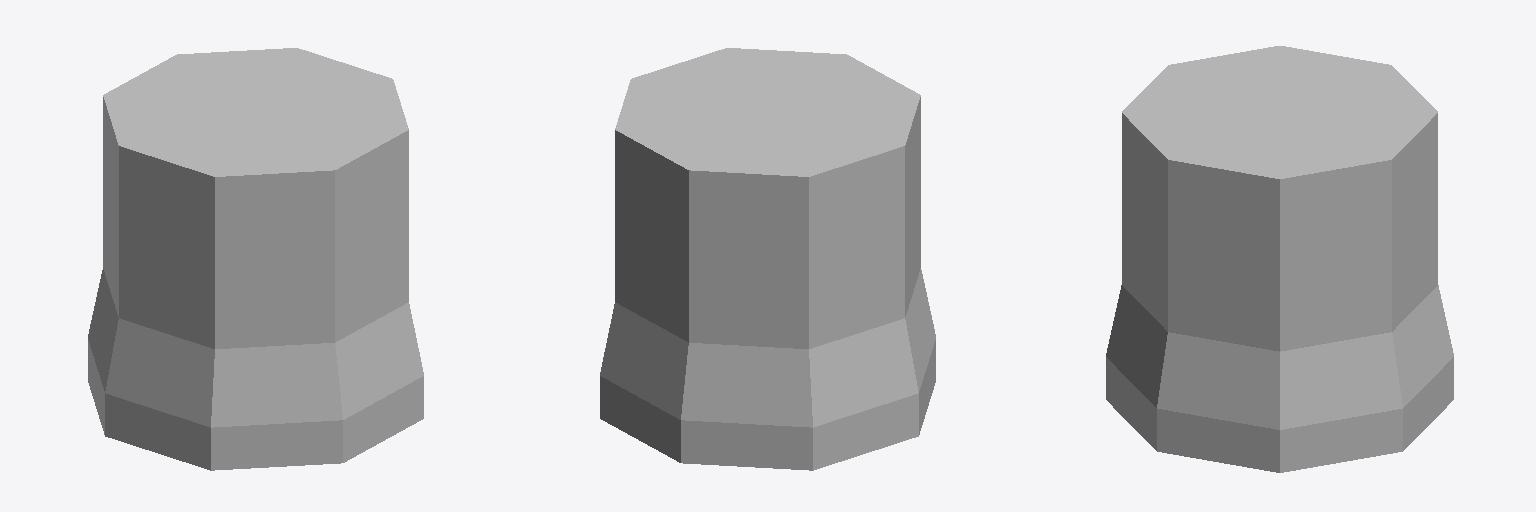
File: tower_base.obj
3 views of the same model, side by side, from view 1: azimuth 30°, elevation 25°; view 2: azimuth 150°, elevation 25°; view 3: azimuth 270°, elevation 25° (orthographic).
Visible parts, largest first — view 1: tower_base; view 2: tower_base; view 3: tower_base.
Part boxes in pixels (bbox=[...]): tower_base: bbox=[88, 48, 423, 470]; tower_base: bbox=[600, 48, 935, 470]; tower_base: bbox=[1106, 46, 1453, 472].
Bounding box in the file's own units: 1.1 × 1 × 1.1.